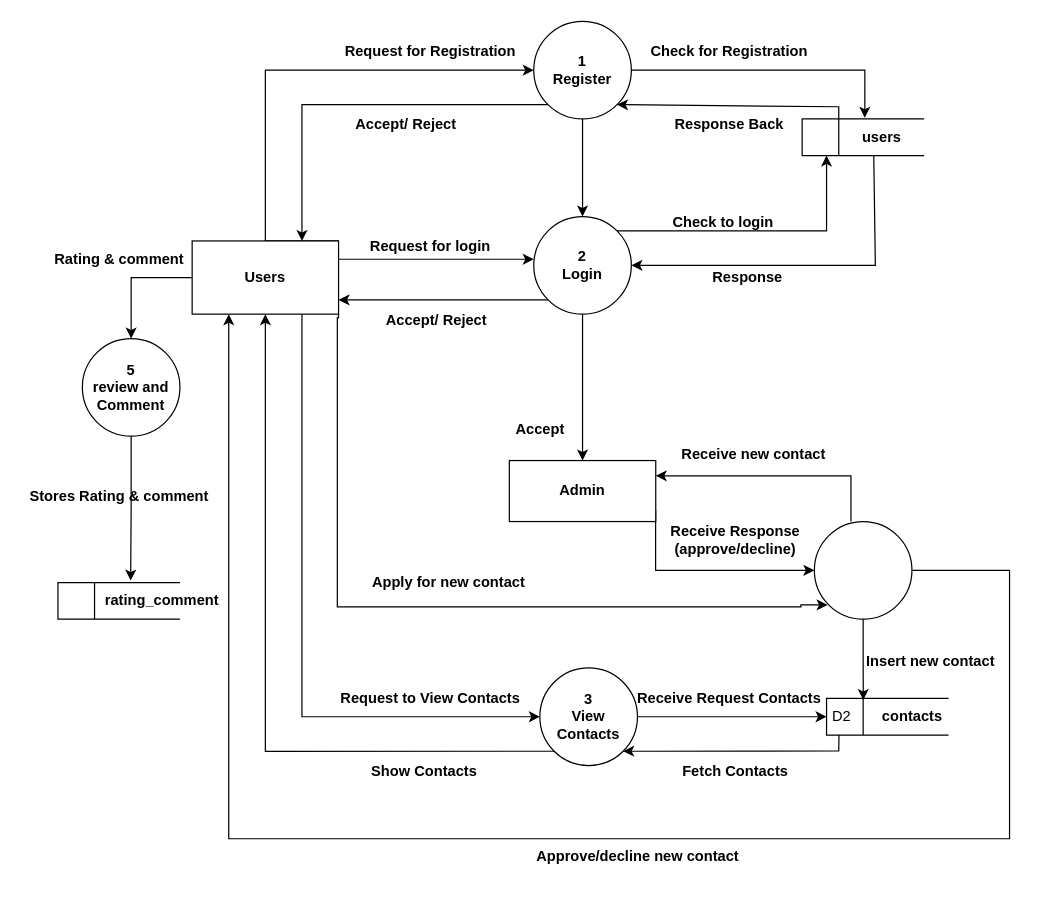
Image size: 1041x897. Some labels were removed from this diagram. Each missing label, with the box of its shape:
4 Manage Contacts: (813, 520, 912, 619)
D1: (801, 118, 924, 156)
D3: (57, 581, 180, 619)
